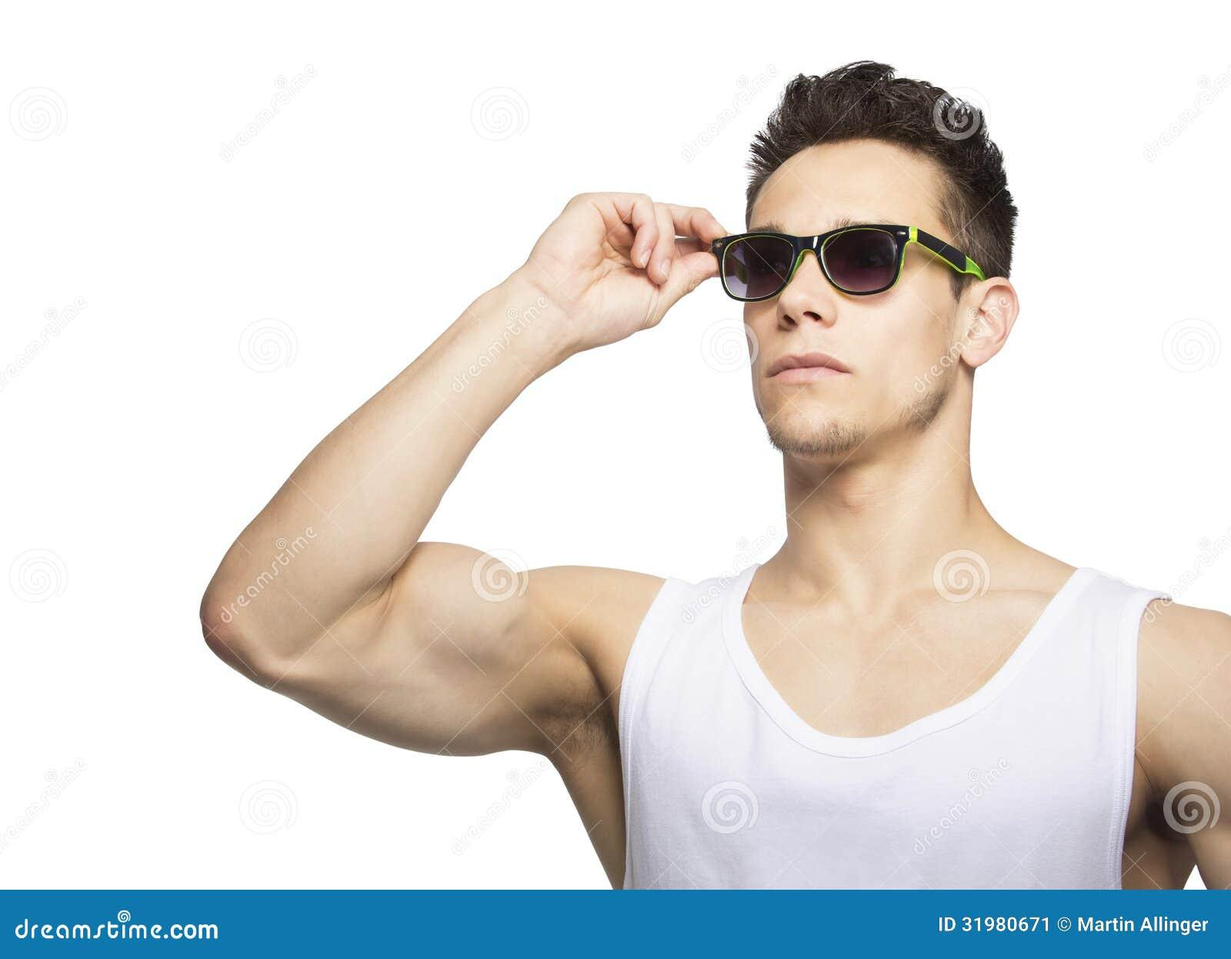sunglasses: (677, 218, 969, 313)
